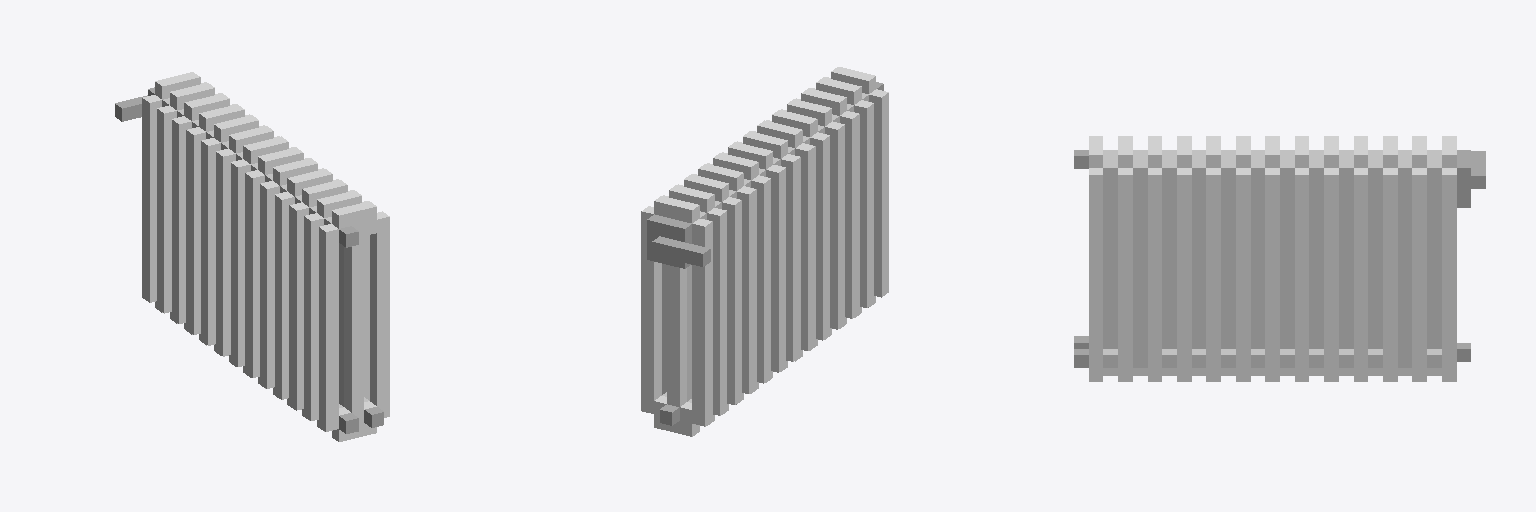
The picture shows the model from 3 angles: view 1: azimuth 30°, elevation 25°; view 2: azimuth 150°, elevation 25°; view 3: azimuth 270°, elevation 25°; orthographic projection.
Visible parts, largest first — view 1: object 1; view 2: object 1; view 3: object 1.
Part boxes in pixels (left/top/right/bottom): object 1: left=115, top=72, right=389, bottom=441; object 1: left=641, top=67, right=888, bottom=436; object 1: left=1074, top=136, right=1485, bottom=381.
Bounding box in the file's own units: 0.6 × 1.7 × 2.8.
Materials: 1 (1 with a texture image).